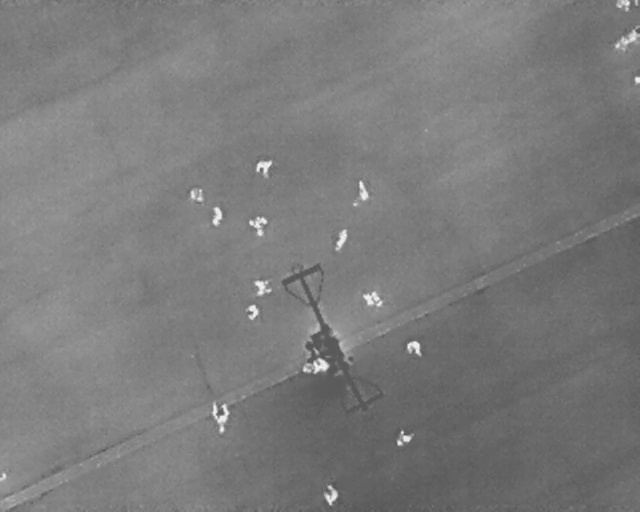Person: (613, 27, 639, 52), (331, 226, 351, 255), (212, 402, 229, 435), (353, 178, 371, 202), (248, 216, 267, 238), (254, 279, 273, 297), (323, 484, 338, 506), (255, 158, 272, 177), (363, 290, 382, 306), (398, 428, 414, 447), (406, 339, 422, 357), (313, 357, 329, 374), (188, 187, 204, 202), (245, 304, 259, 321), (213, 205, 222, 227), (615, 0, 631, 10)
